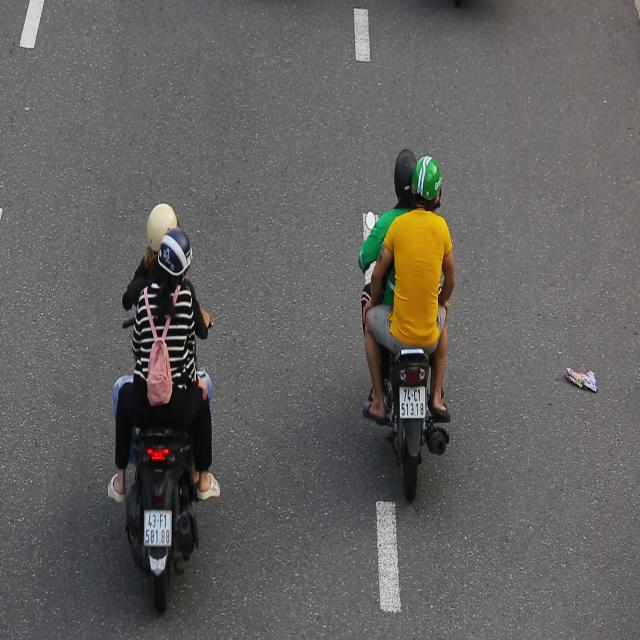motorbike: (104, 193, 226, 622), (356, 138, 457, 500)
